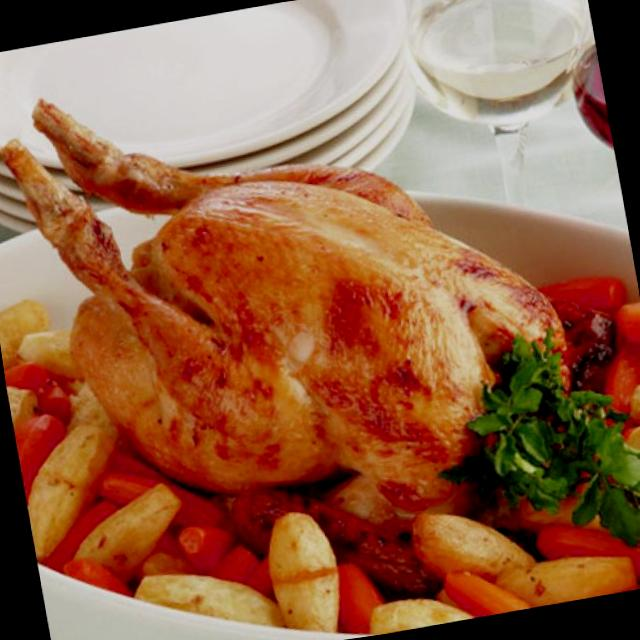Chicken: (38, 36, 574, 508)
